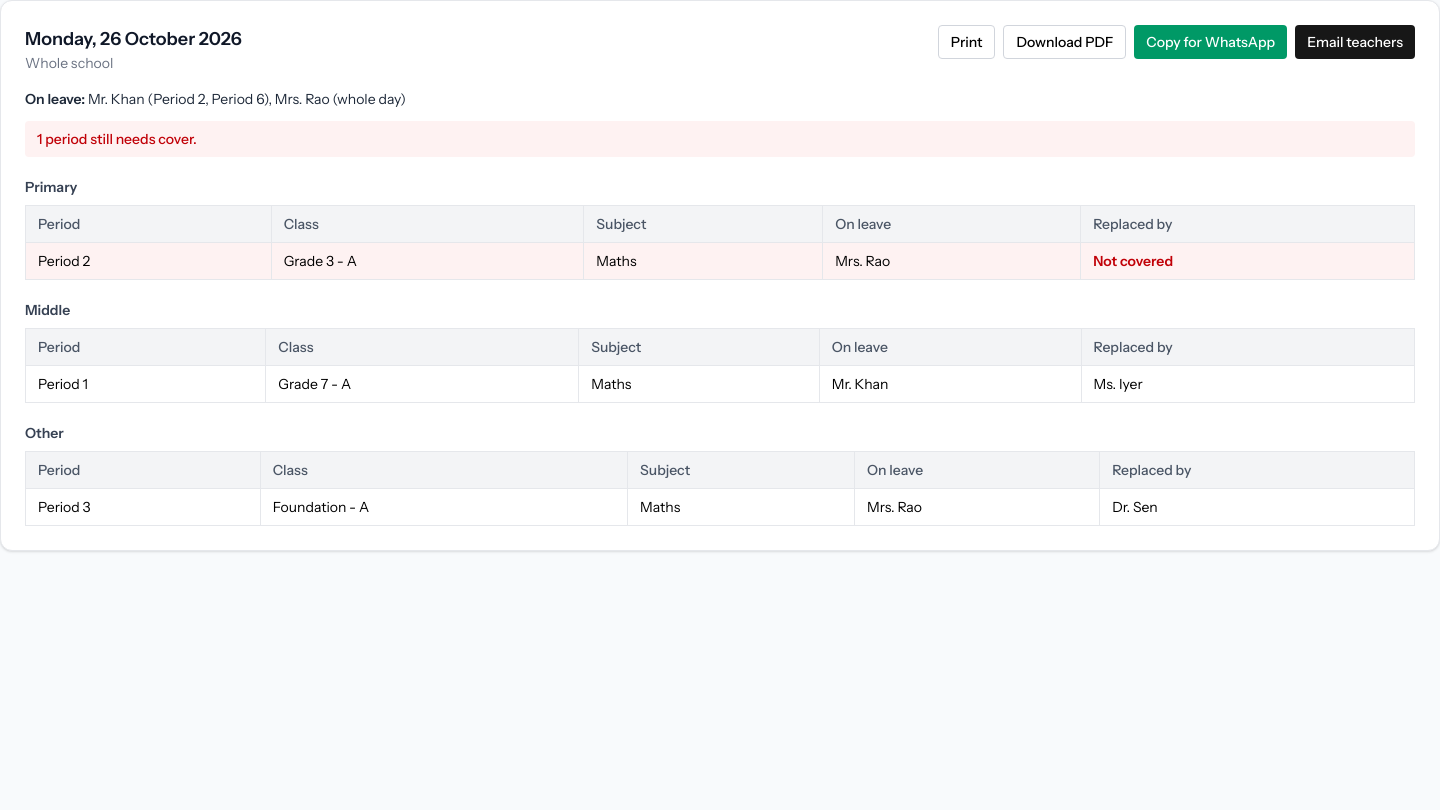
Test case: the summary on screen › copies the message for WhatsApp
Click the button "Copy for WhatsApp" at [1211, 42], box [1134,25,1287,59]
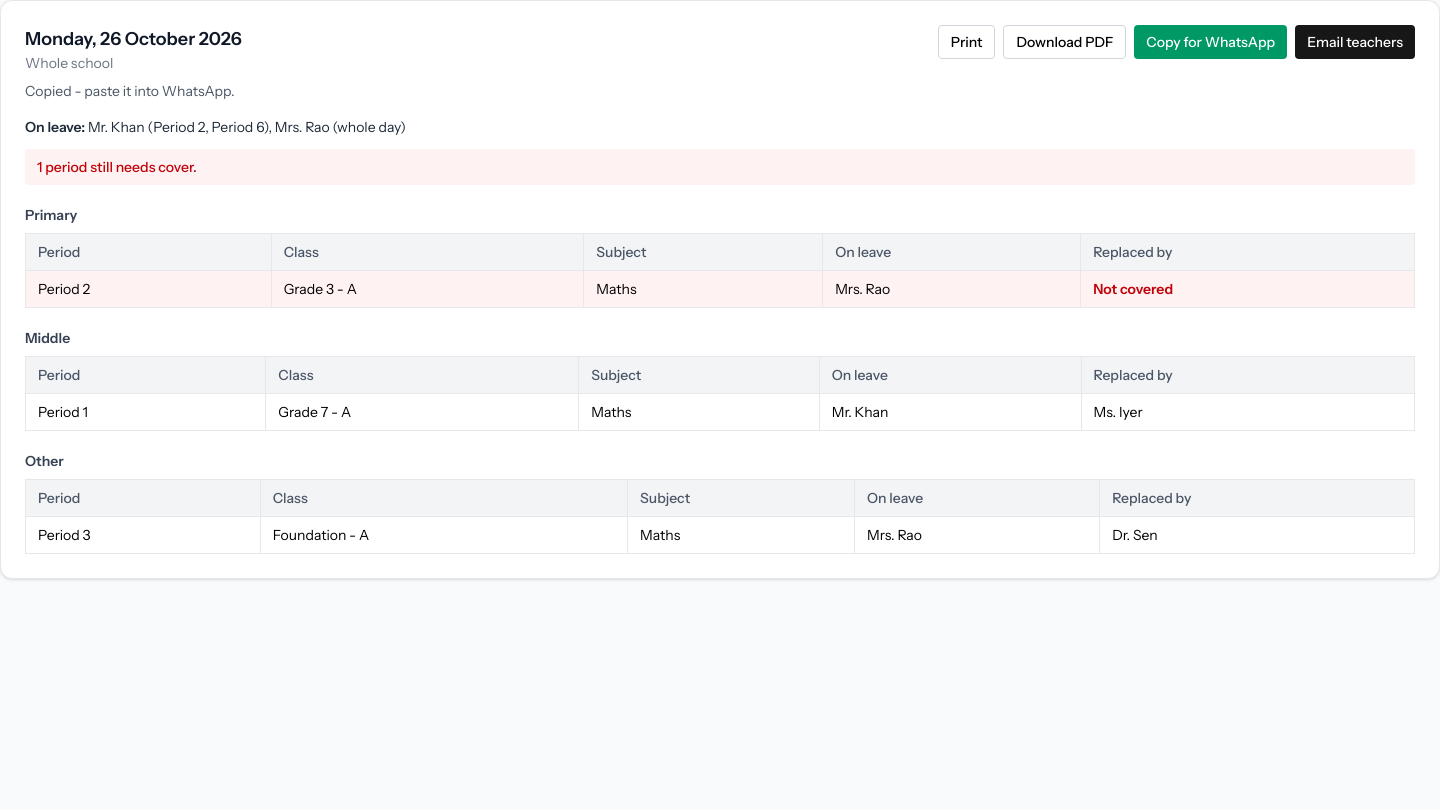
Now the message shows "Copied", box [25,82,234,100]
